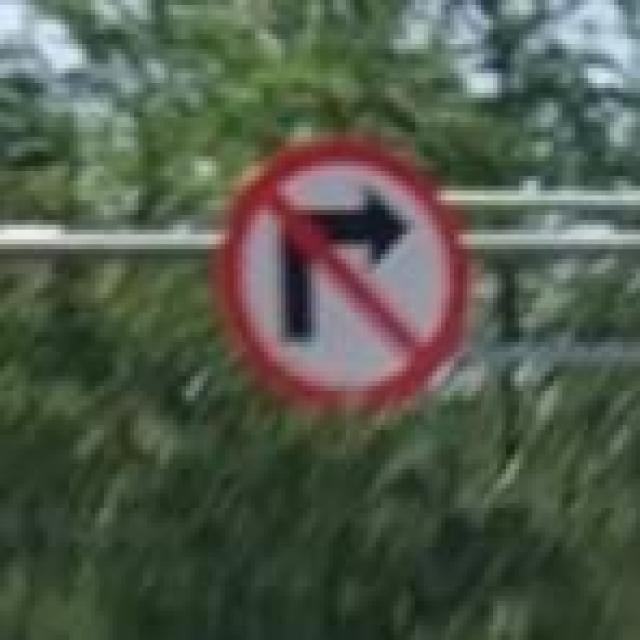traffic sign: (225, 147, 467, 426)
